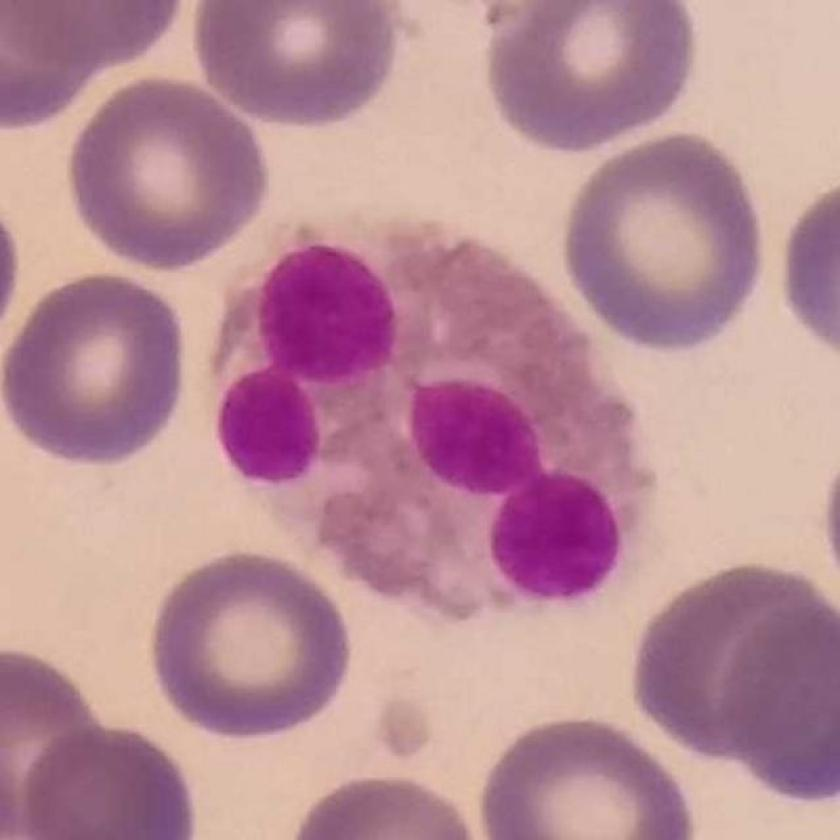eosinophil: (198, 205, 662, 634)
